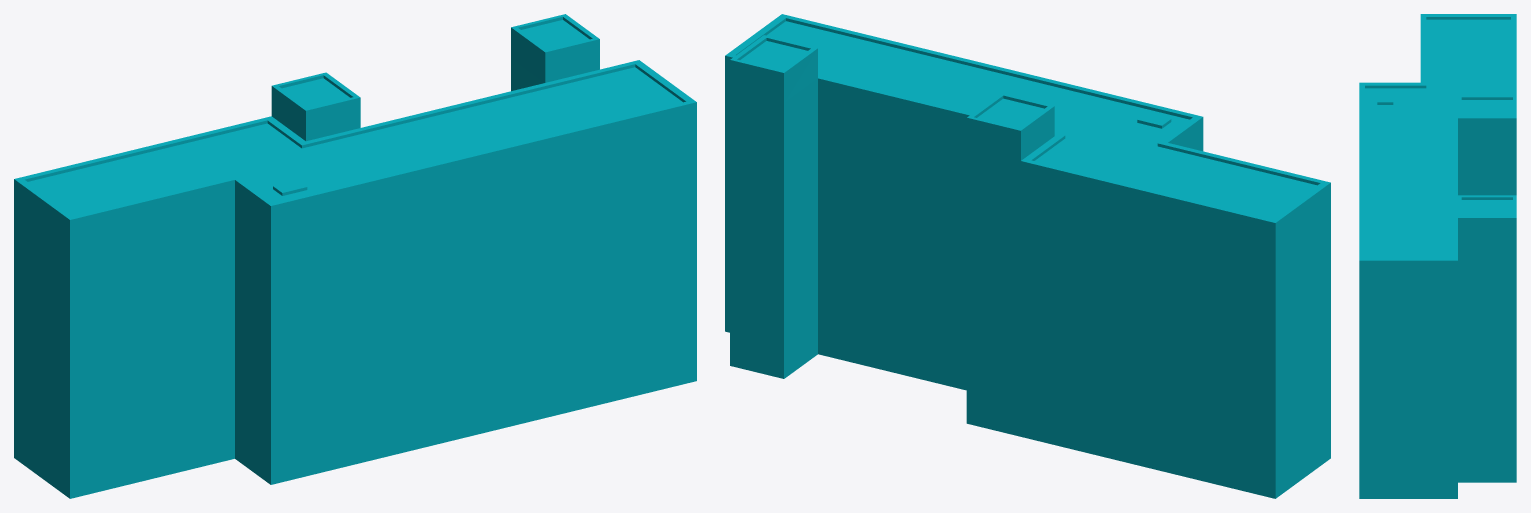
File: student3.FBX
3 views of the same model, side by side, from view 1: azimuth 30°, elevation 25°; view 2: azimuth 150°, elevation 25°; view 3: azimuth 270°, elevation 25° (orthographic). The views are drawn at different scales.
Visible parts, largest first — view 1: 学生公寓3; view 2: 学生公寓3; view 3: 学生公寓3.
Part boxes in pixels (<box>): 学生公寓3: <box>14,14,696,498</box>; 学生公寓3: <box>725,14,1330,498</box>; 学生公寓3: <box>1359,14,1516,498</box>.
Bounding box in the file's own units: 24.4 × 12.21 × 6.57.
